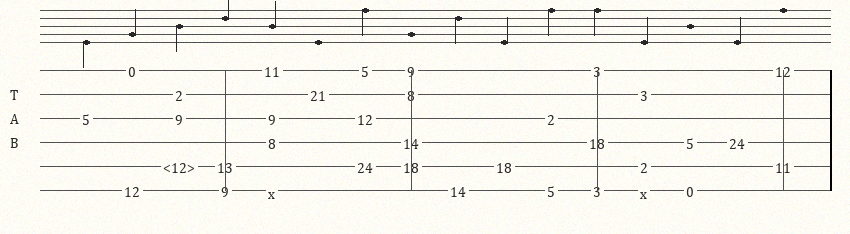0: (128, 63, 140, 77), (686, 183, 698, 197)
11: (264, 63, 284, 77), (775, 159, 795, 173)
12: (124, 183, 144, 197), (357, 111, 377, 125), (775, 63, 795, 77)
13: (217, 159, 237, 173)
14: (403, 135, 423, 149), (450, 183, 470, 197)
18: (403, 159, 423, 173), (496, 159, 516, 173), (589, 135, 609, 149)
2: (175, 87, 187, 101), (547, 111, 559, 125), (640, 159, 652, 173)
21: (310, 87, 330, 101)
24: (357, 159, 377, 173), (729, 135, 749, 149)
3: (593, 63, 605, 77), (593, 183, 605, 197), (640, 87, 652, 101)
5: (82, 111, 94, 126), (361, 63, 373, 78), (547, 183, 559, 198), (686, 135, 698, 150)
8: (268, 135, 280, 149), (407, 87, 419, 101)
9: (175, 111, 187, 125), (221, 183, 233, 197), (268, 111, 280, 125), (407, 63, 419, 77)
harmonic: (163, 159, 199, 173)
x: (268, 185, 279, 196), (640, 185, 651, 196)
